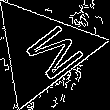M_SW: (7, 16, 79, 84)
